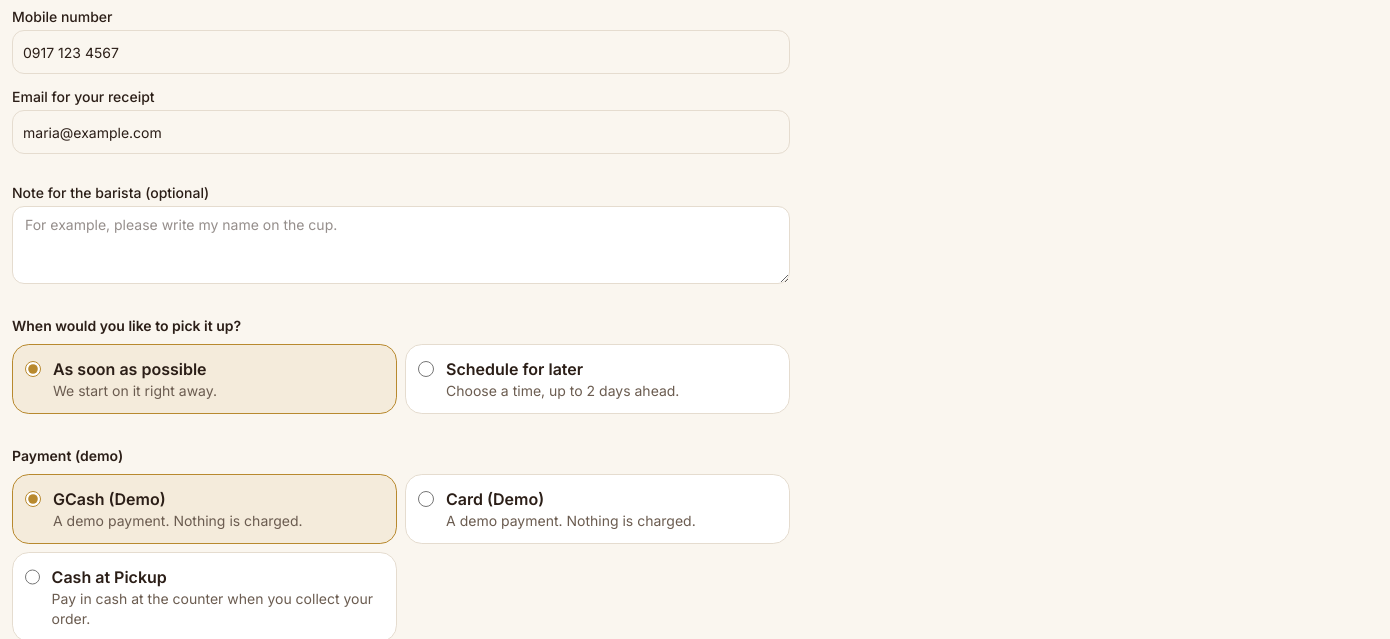
Test case: CheckoutForm › offers grouped time slots, and only scheduling when a branch is closed
This screenshot has width=1390, height=639.
(page scrolled)
Click the radio button labelled "Schedule for later Choose a time, up to 2 days ahead." at {"x": 426, "y": 369}, box [418,361,434,377]
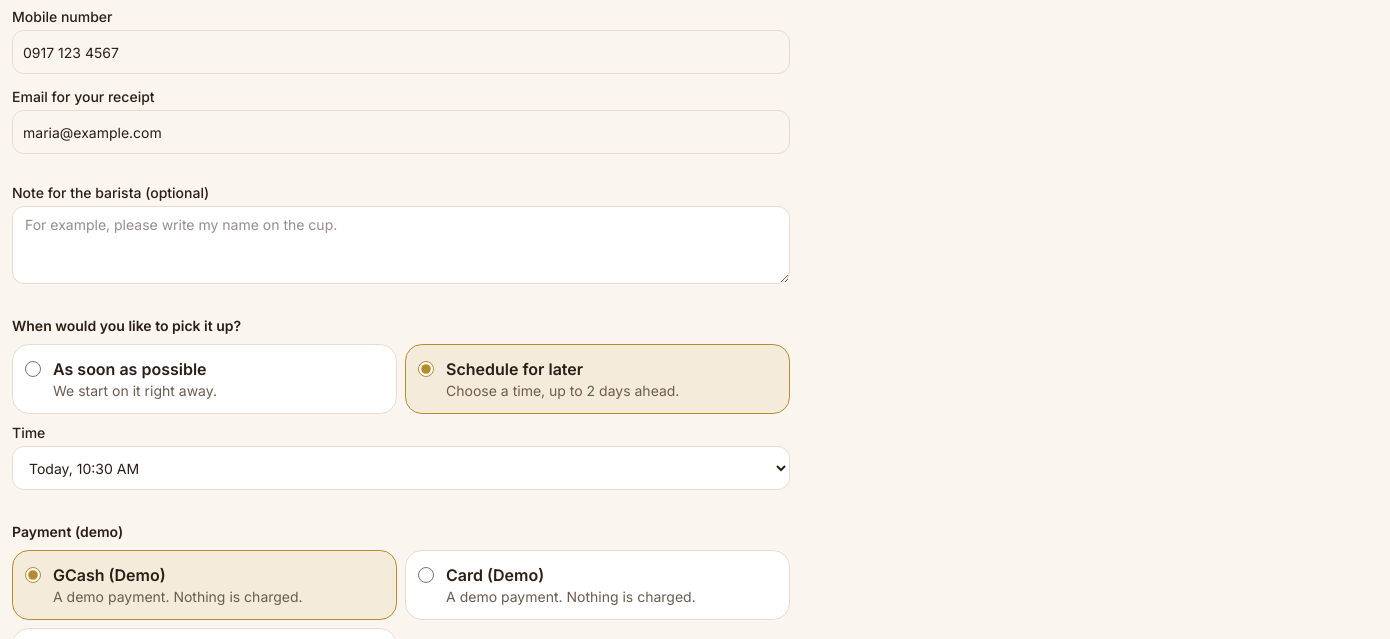
Select "Tomorrow, 9:00 AM" in the dropdown labelled "Time" at {"x": 401, "y": 468}, box [12,446,790,490]
(page scrolled)
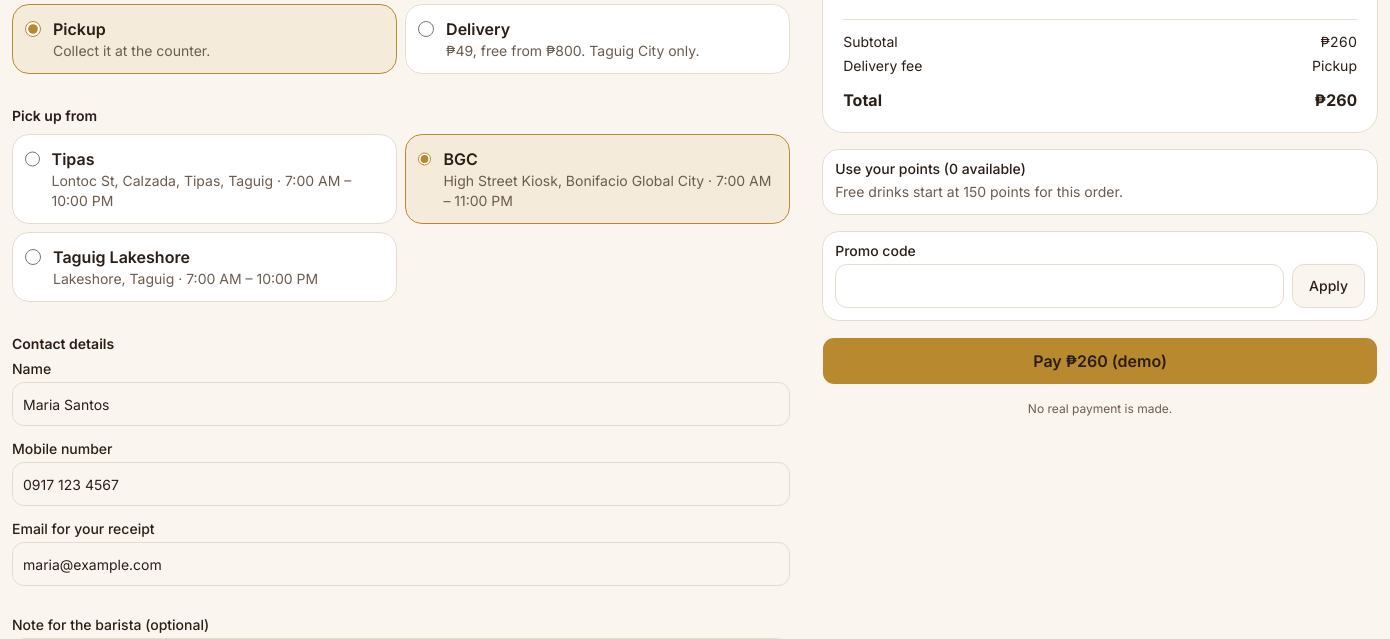
Click the radio button labelled "Taguig Lakeshore Lakeshore, Taguig · 7:00 AM – 10:00 PM" at {"x": 33, "y": 257}, box [25,249,41,265]
(page scrolled)
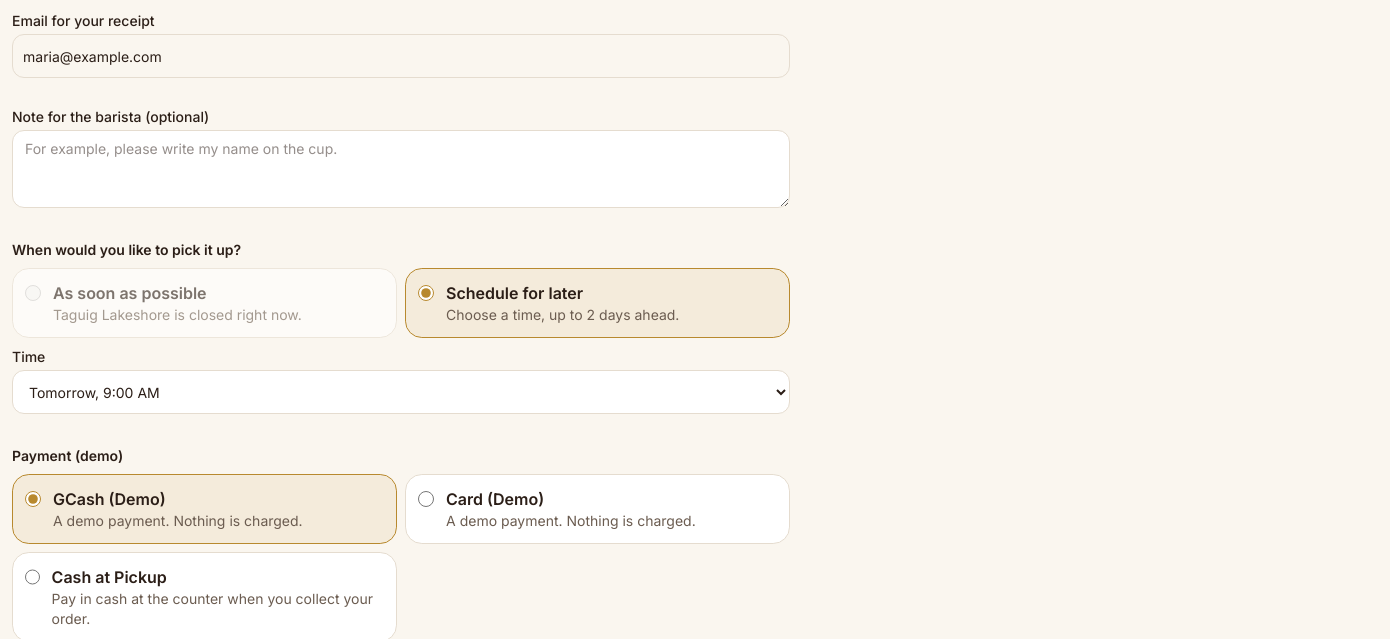
Expected: the radio button labelled "As soon as possible Taguig Lakeshore is closed right now." is disabled, [25,285,41,301]
Expected: the text "Taguig Lakeshore is closed right now." is shown, [53,305,302,325]
